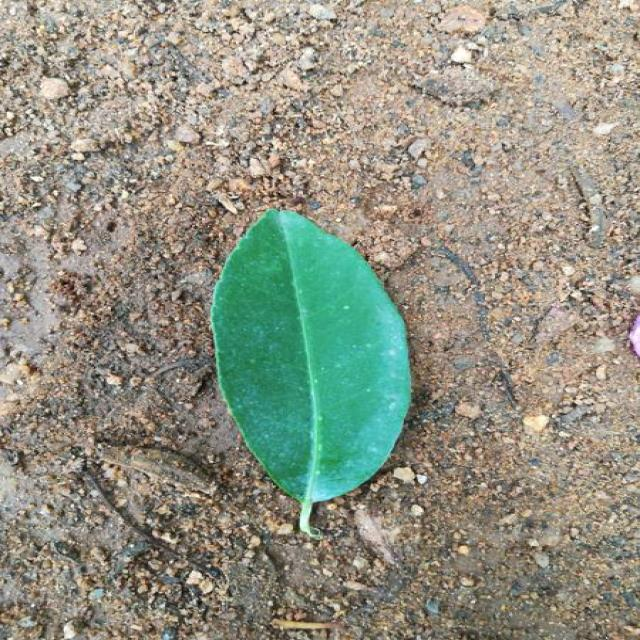citron lime: (212, 210, 410, 537)
